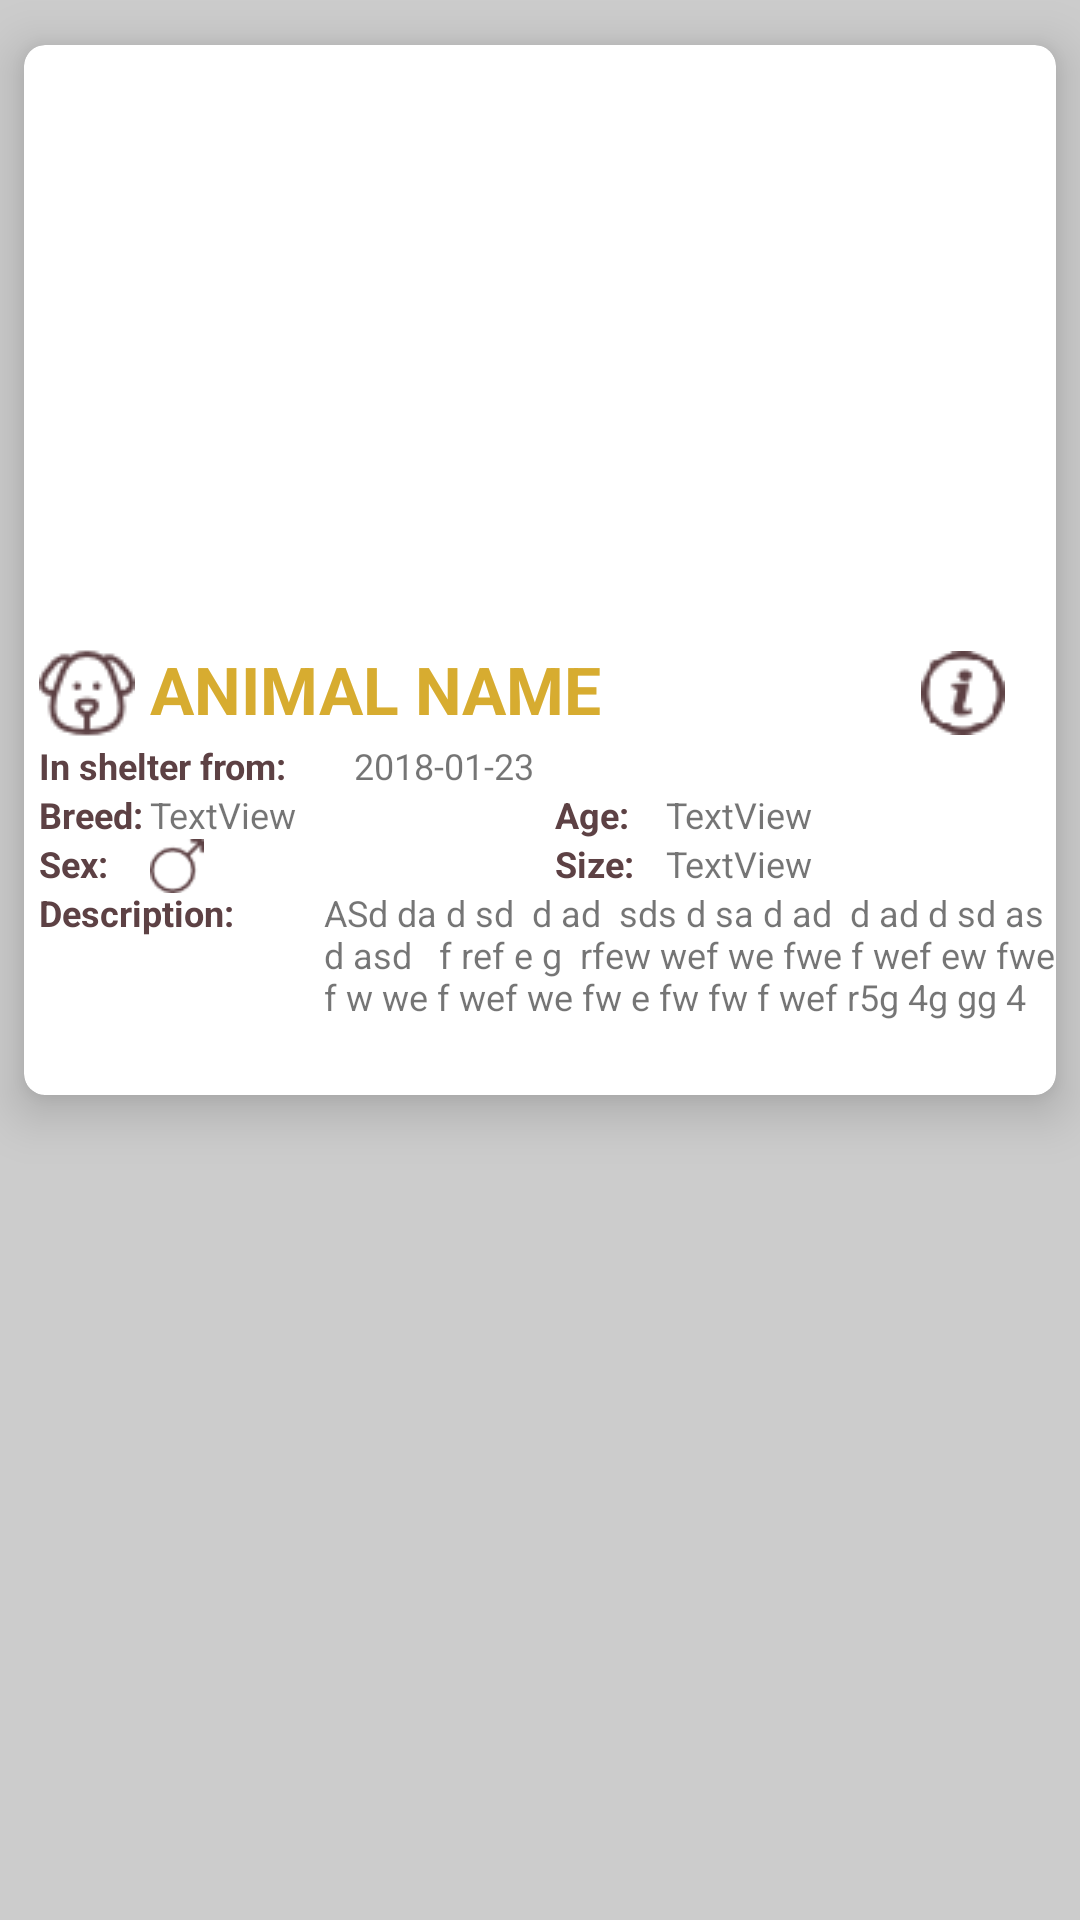

Icon bounding boxes for this 1080w x 1920h phone screenshot, format box=[x1, y1, x2, y2]:
dog brown: box=[39, 650, 135, 736]
info: box=[921, 651, 1005, 735]
male brown: box=[150, 839, 204, 893]
